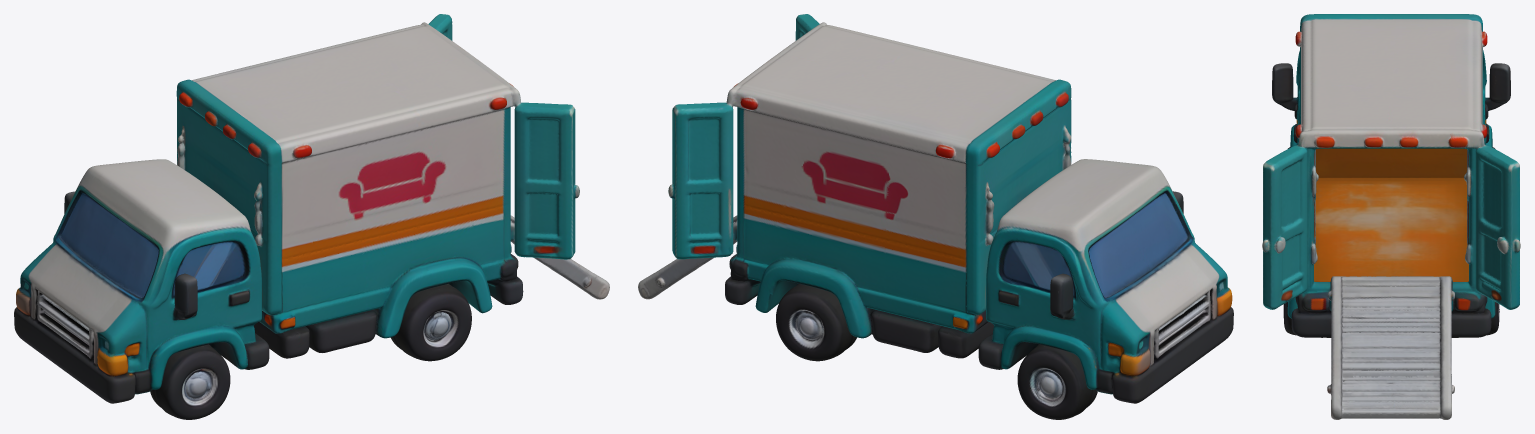
Rendered from truck.glb.
3 renders of one model, left to right at view 1: azimuth 30°, elevation 25°; view 2: azimuth 150°, elevation 25°; view 3: azimuth 270°, elevation 25°, orthographic. The views are drawn at different scales.
Parts seen in each view (by area): view 1: tripo_node_7f25582f-c313-43f4-9cfd-e350c7425360; view 2: tripo_node_7f25582f-c313-43f4-9cfd-e350c7425360; view 3: tripo_node_7f25582f-c313-43f4-9cfd-e350c7425360.
Boxes of the visible parts, x1,y1,x2,y2 form: tripo_node_7f25582f-c313-43f4-9cfd-e350c7425360: [14, 14, 609, 419]; tripo_node_7f25582f-c313-43f4-9cfd-e350c7425360: [638, 14, 1233, 419]; tripo_node_7f25582f-c313-43f4-9cfd-e350c7425360: [1262, 14, 1520, 419].
Size of the model in its own units: 1 by 0.4605 by 0.4451.
1 material, 1 textured.
